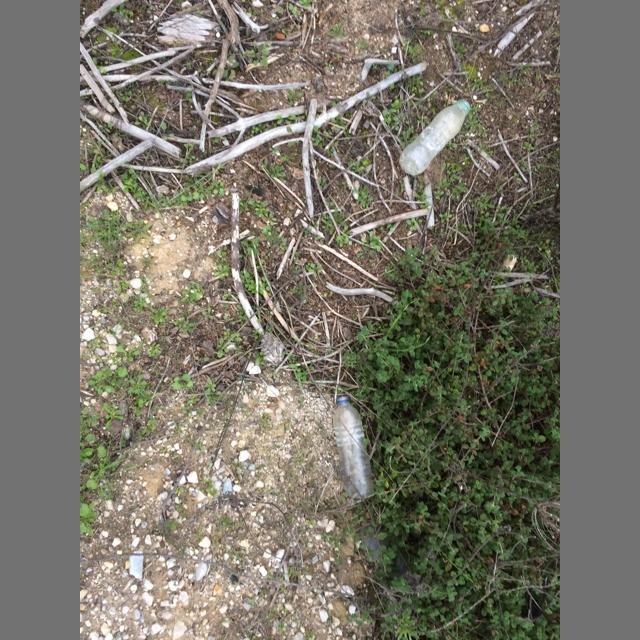litter: (399, 99, 471, 176), (333, 396, 374, 498)
